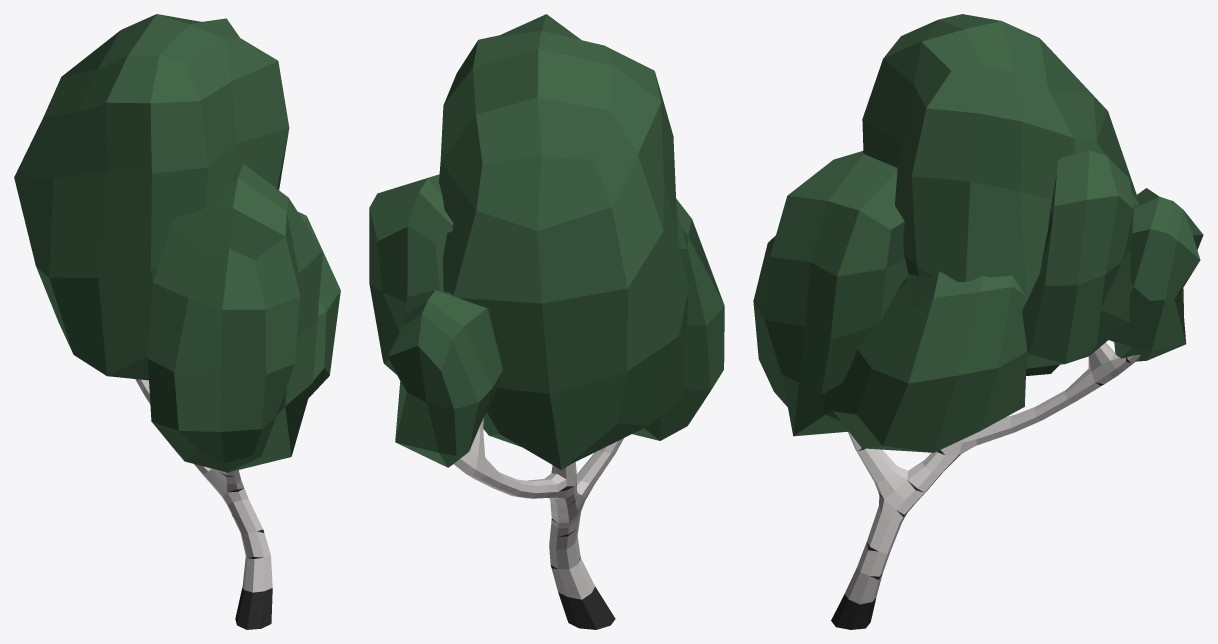
Rendered from birch.fbx.
3 renders of one model, left to right at view 1: azimuth 30°, elevation 25°; view 2: azimuth 150°, elevation 25°; view 3: azimuth 270°, elevation 25°, orthographic. The views are drawn at different scales.
Visible parts, largest first — view 1: birch; view 2: birch; view 3: birch.
Part boxes in pixels (x1,y1,x2,y2): birch: (14,14,340,629); birch: (369,14,724,629); birch: (753,14,1203,629).
Bounding box in the file's own units: 1.7 × 3.57 × 2.48.
